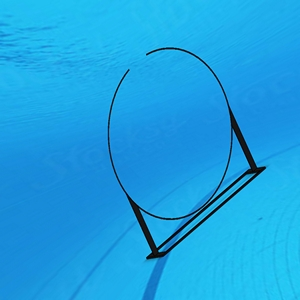circle: (105, 44, 267, 261)
